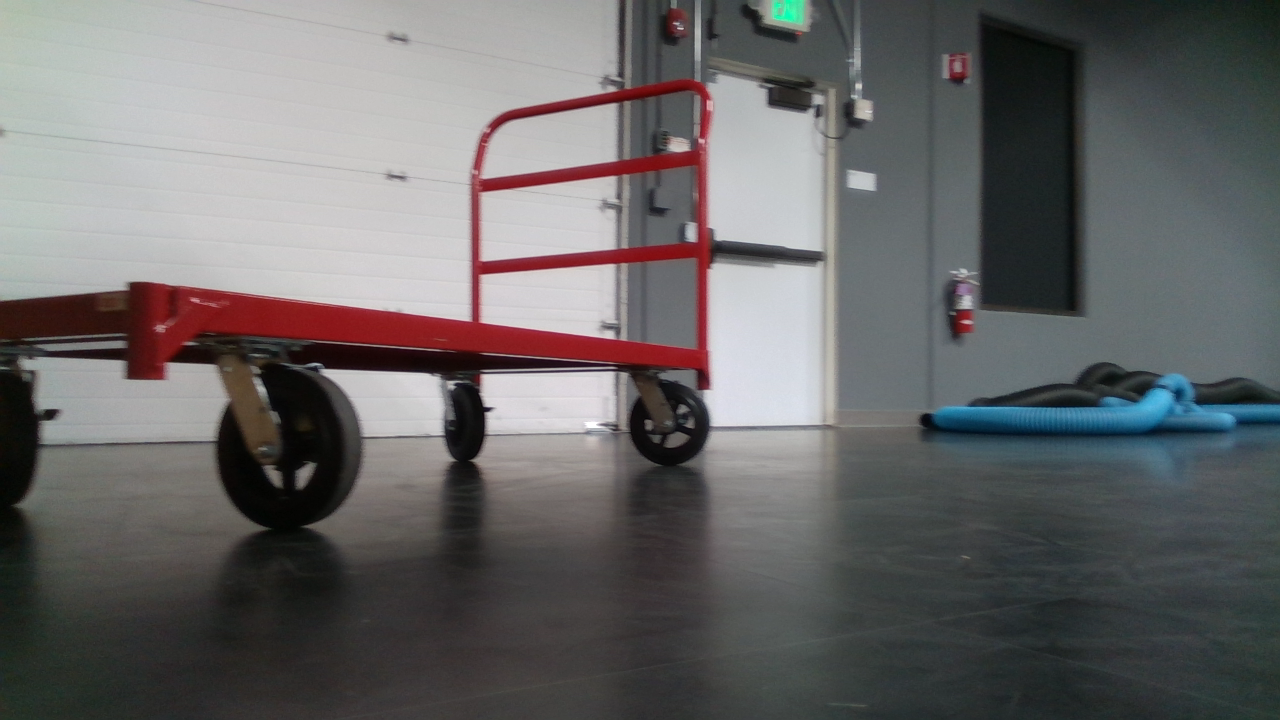Dolly: (0, 75, 716, 533)
Wheel: (210, 339, 363, 533), (0, 347, 57, 512), (624, 368, 711, 466), (440, 374, 492, 461)
